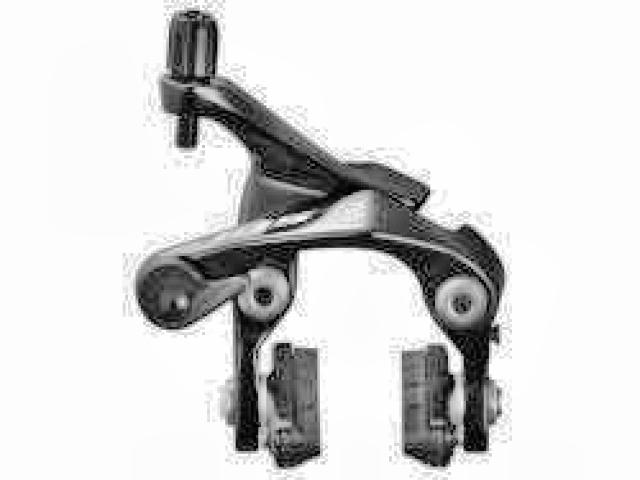rim_brake: (132, 8, 509, 467)
